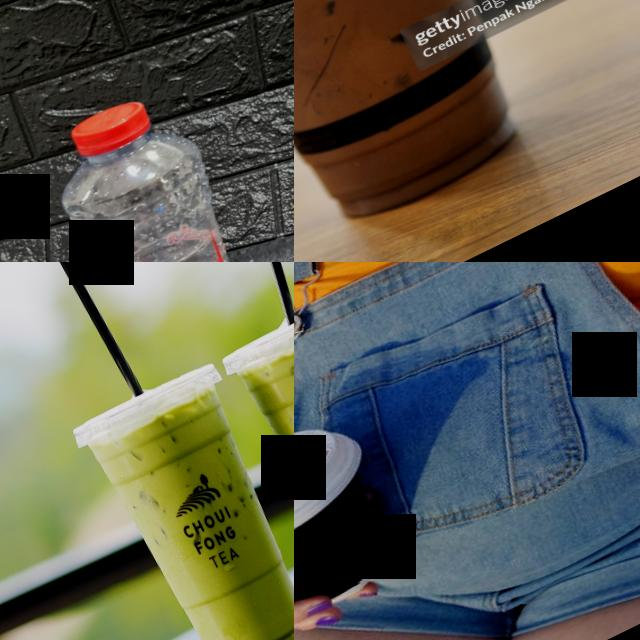bottle: (24, 78, 289, 262)
cup: (294, 0, 596, 262), (68, 356, 294, 640), (294, 402, 419, 640), (215, 283, 294, 631)
